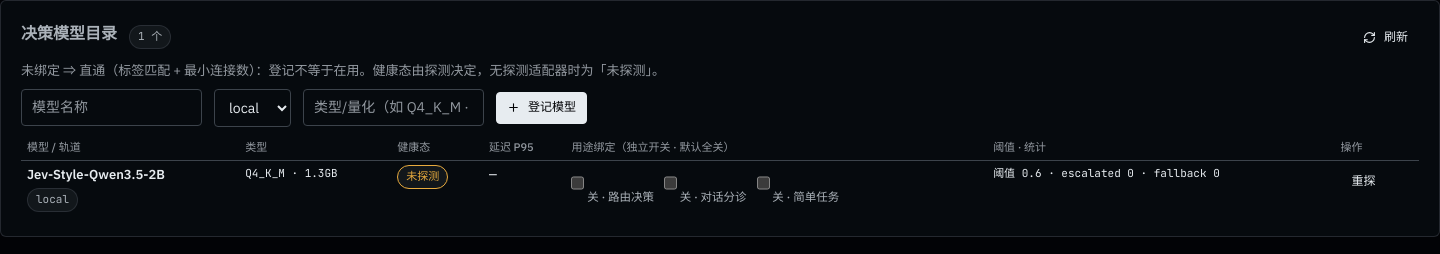
Test: 决策模型目录（P4 真后端） › 重探返回 unprobed 时把「未配置探测适配器」原样告诉用户
What coordinates should you click on to do the following:
click the button "重探"
I would click on:
 (1364, 181)
Its box is x1=1340 y1=165 x2=1386 y2=197.
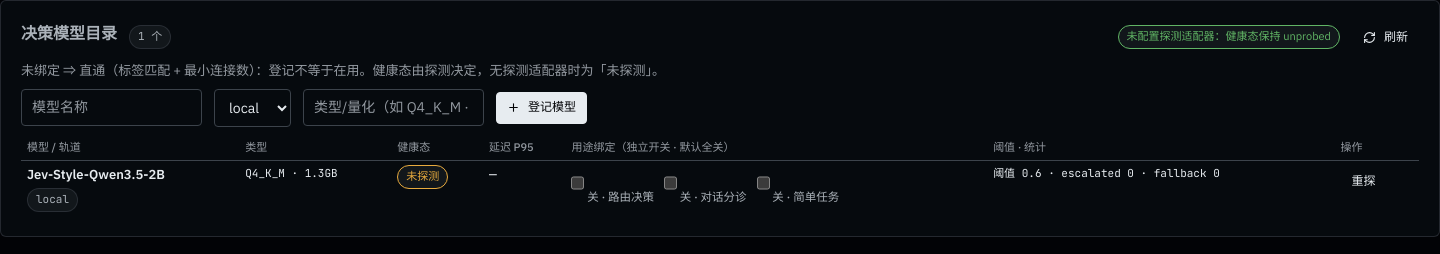
expect the message shows "未配置探测适配器": met, box x1=1127 y1=29 x2=1331 y2=43
